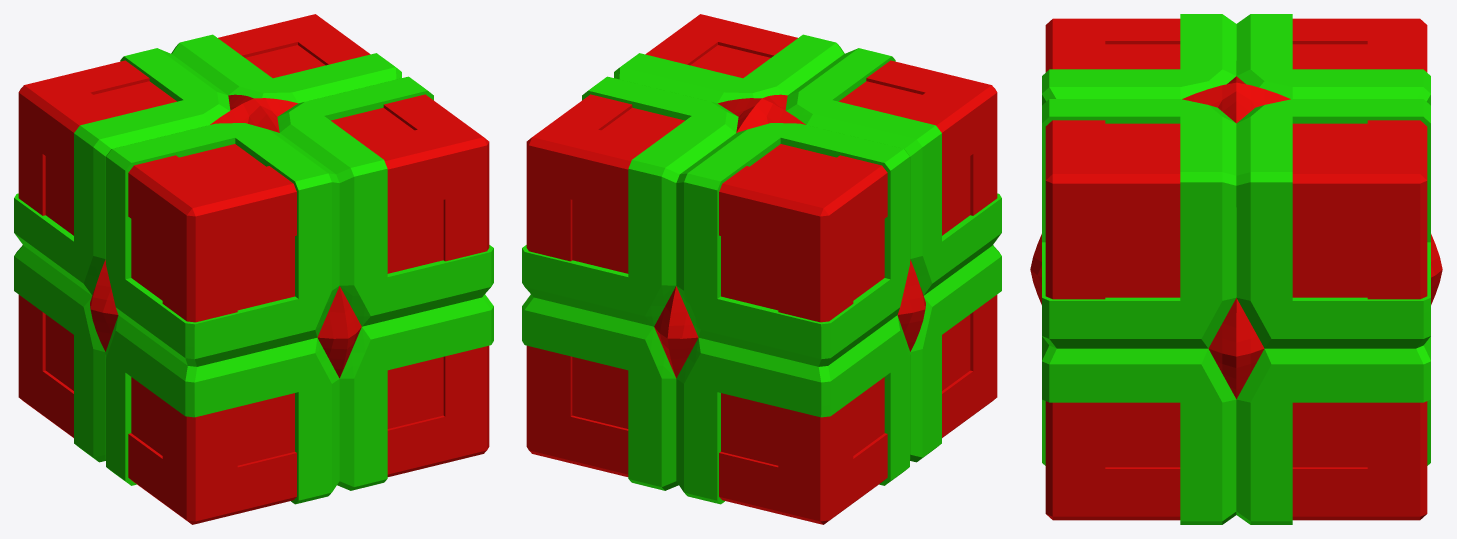
3 renders of one model, left to right at view 1: azimuth 30°, elevation 25°; view 2: azimuth 150°, elevation 25°; view 3: azimuth 270°, elevation 25°, orthographic. The views are drawn at different scales.
Parts seen in each view (by area): view 1: Content; view 2: Content; view 3: Content.
Boxes of the visible parts, bbox=[...] form: Content: bbox=[14, 14, 493, 524]; Content: bbox=[522, 14, 1001, 524]; Content: bbox=[1030, 14, 1442, 524].
Bounding box in the file's own units: 2.2 × 2.14 × 2.2.
